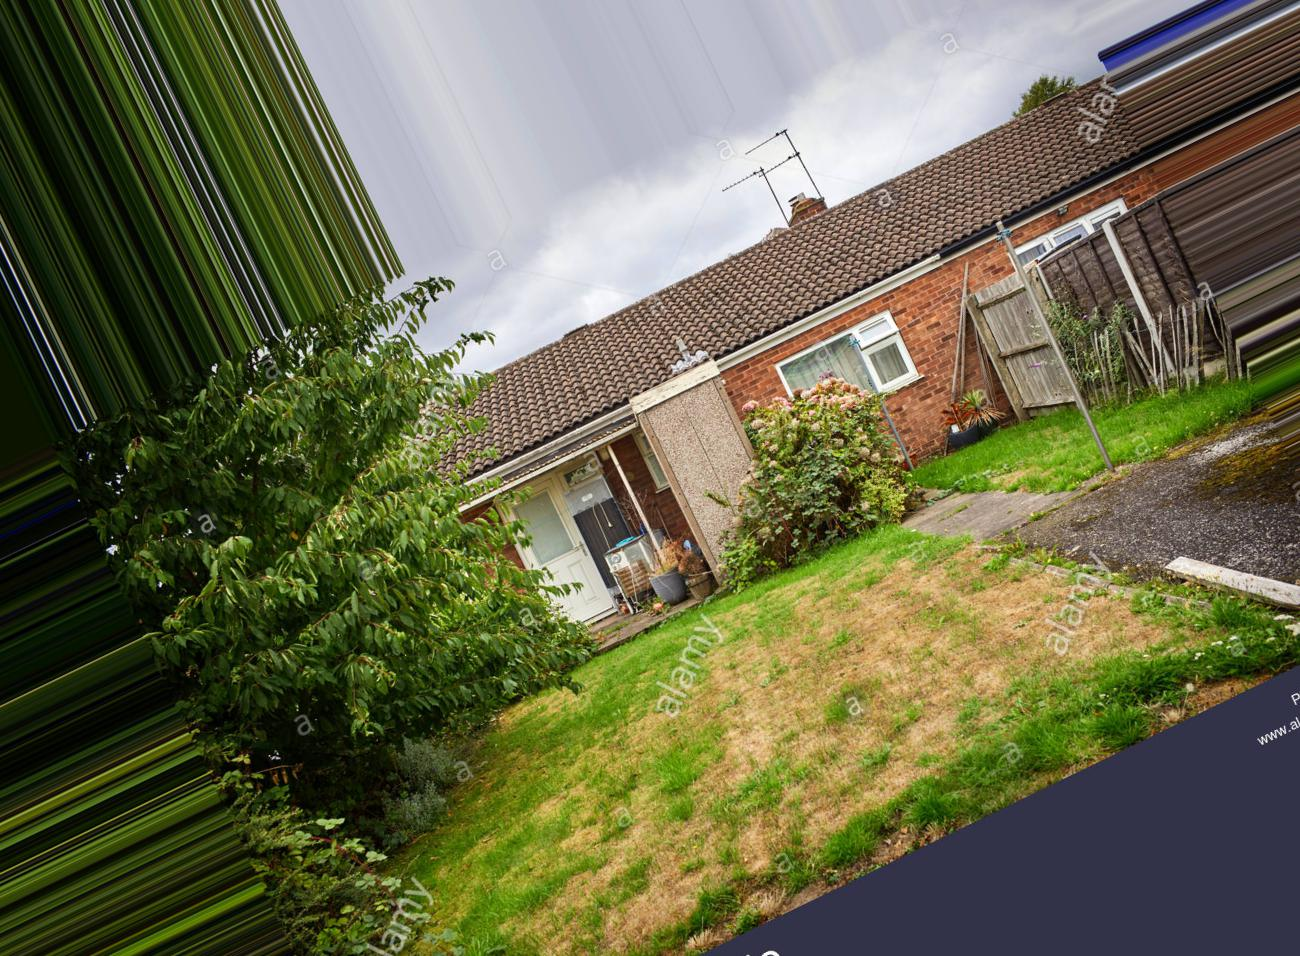patch: (846, 565, 932, 678), (784, 664, 848, 747), (957, 610, 1022, 684), (969, 568, 1047, 606), (654, 881, 673, 901)
